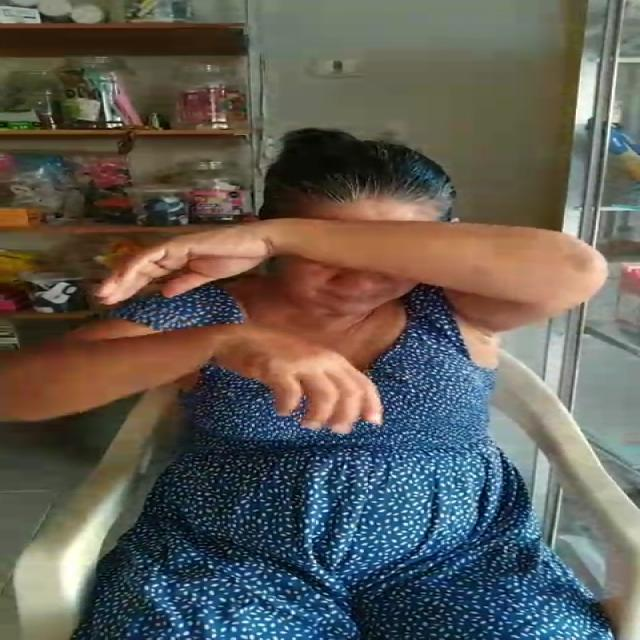7_mano_rostro: (180, 211, 500, 283)
